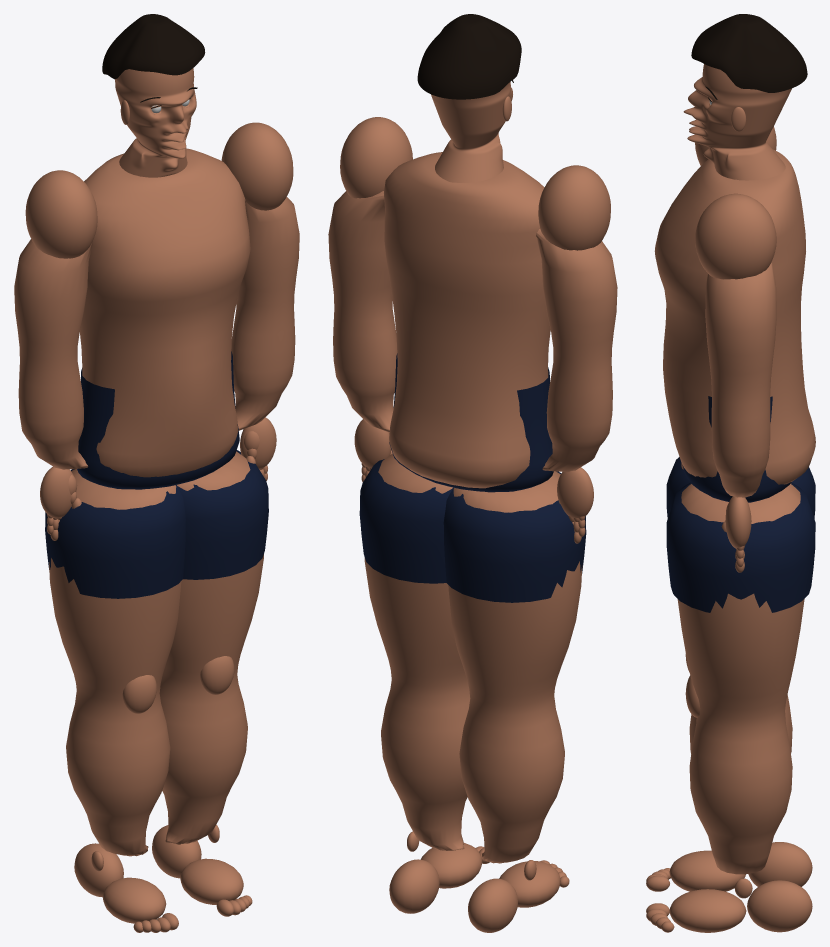
Rendered from male_athletic.obj.
3 renders of one model, left to right at view 1: azimuth 30°, elevation 25°; view 2: azimuth 150°, elevation 25°; view 3: azimuth 270°, elevation 25°, orthographic.
Parts seen in each view (by area): view 1: Body_male_athletic, Garment_Shorts, Hair_crew_cut; view 2: Body_male_athletic, Garment_Shorts, Hair_crew_cut; view 3: Body_male_athletic, Garment_Shorts, Hair_crew_cut.
Boxes of the visible parts, bbox=[...] form: Body_male_athletic: bbox=[14, 68, 299, 932]; Garment_Shorts: bbox=[45, 351, 268, 598]; Hair_crew_cut: bbox=[102, 14, 205, 79]; Body_male_athletic: bbox=[328, 82, 617, 932]; Garment_Shorts: bbox=[359, 353, 586, 602]; Hair_crew_cut: bbox=[417, 14, 521, 99]; Body_male_athletic: bbox=[646, 64, 815, 932]; Garment_Shorts: bbox=[666, 396, 815, 612]; Hair_crew_cut: bbox=[691, 14, 807, 92].
Size of the model in its own units: 0.6242 by 1.89 by 0.3264.
